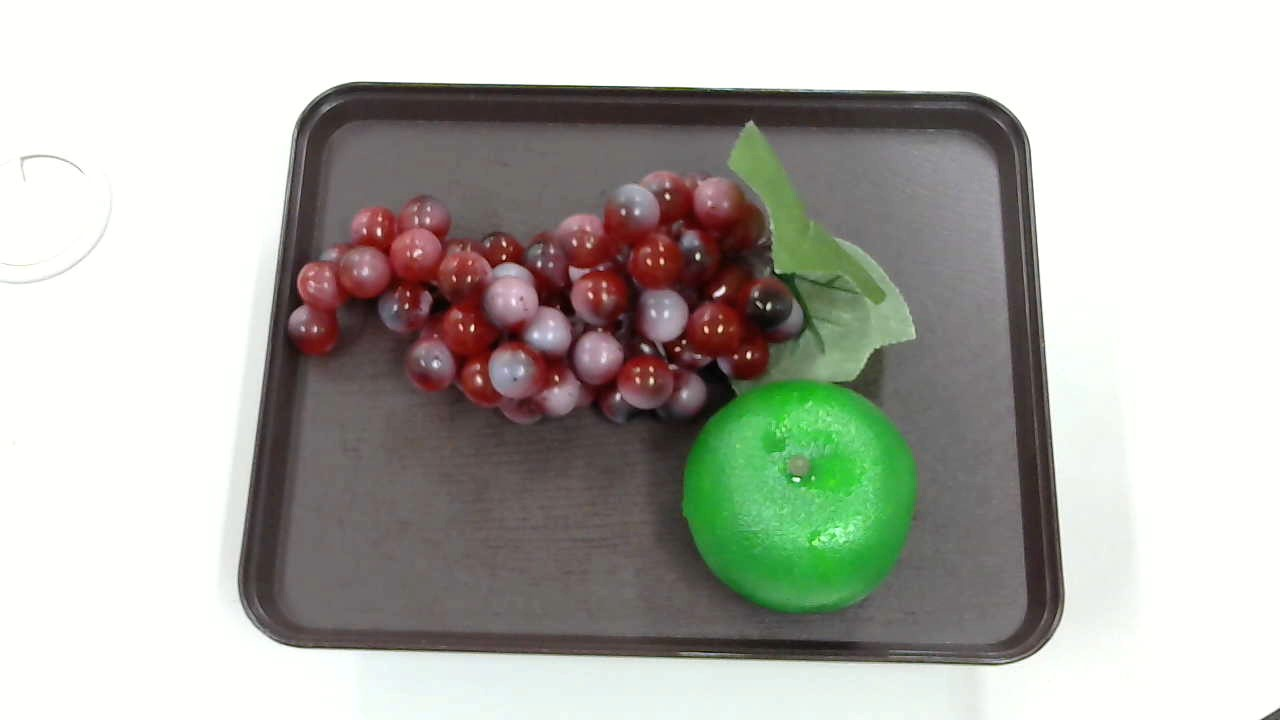grape: (288, 125, 917, 420)
green orange: (685, 385, 917, 615)
